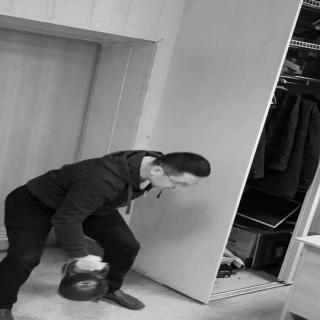kettlebell: (59, 261, 109, 304)
